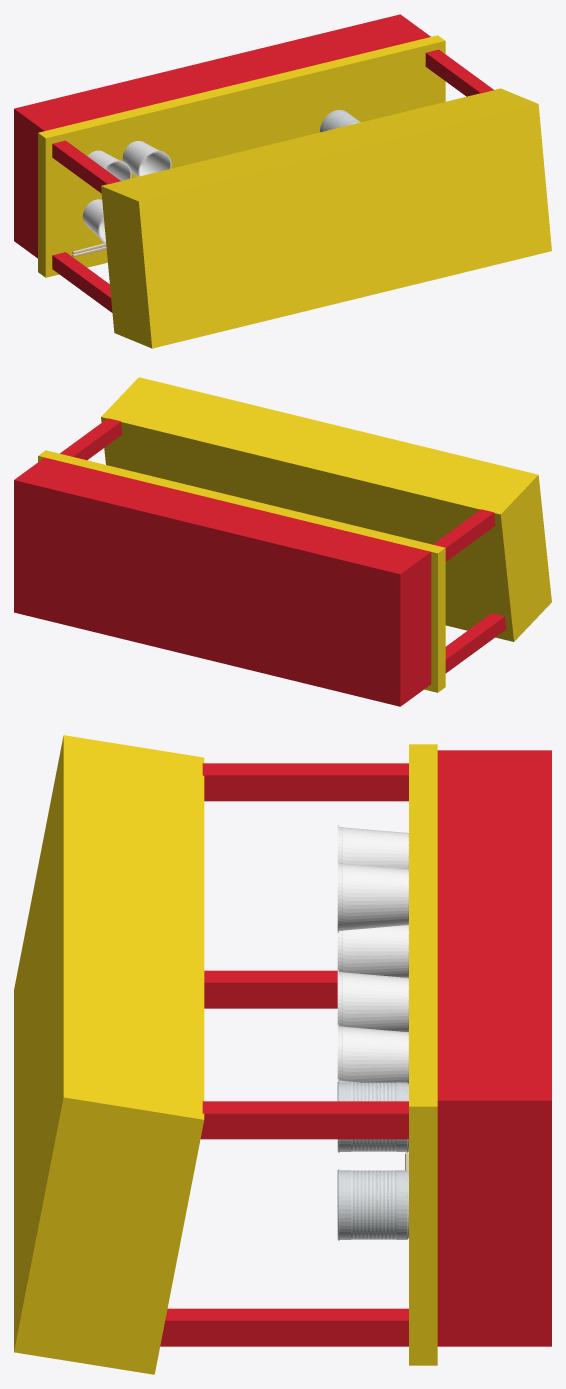
The model's file is Yatai1.obj.
3 renders of one model, top to bottom at view 1: azimuth 30°, elevation 25°; view 2: azimuth 150°, elevation 25°; view 3: azimuth 270°, elevation 25°, orthographic. The views are drawn at different scales.
Parts seen in each view (by area): view 1: group_0_16768282, group_0_15277357, group_0_16448250, group_0_14541540; view 2: group_0_15277357, group_0_16768282; view 3: group_0_16768282, group_0_15277357, group_0_16448250, group_0_14541540.
Boxes of the visible parts, box(x1,y1,x2,y2) form: group_0_16768282: box(38, 35, 551, 348); group_0_15277357: box(14, 14, 494, 312); group_0_16448250: box(82, 140, 171, 243); group_0_14541540: box(320, 110, 360, 132); group_0_15277357: box(14, 418, 506, 706); group_0_16768282: box(38, 377, 551, 692); group_0_16768282: box(14, 735, 437, 1374); group_0_15277357: box(160, 750, 551, 1346); group_0_16448250: box(337, 825, 408, 1083); group_0_14541540: box(337, 1081, 408, 1240).
Bounding box in the file's own units: 60 × 21.43 × 37.66.
